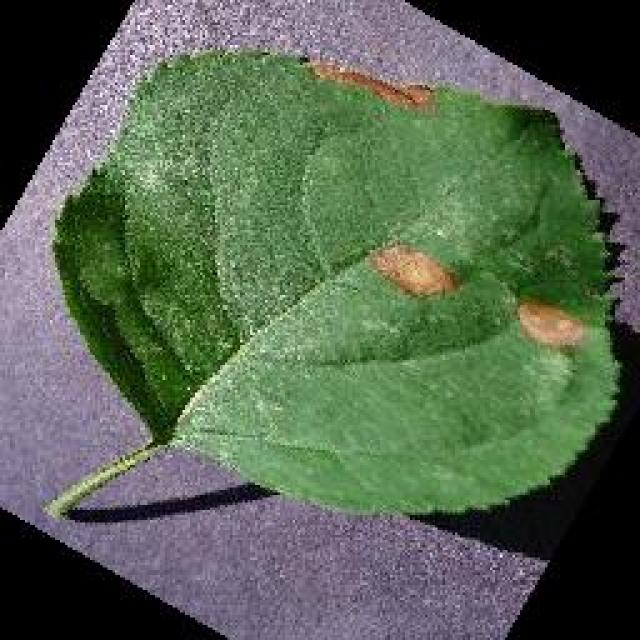apple healthy: (45, 45, 625, 525)
